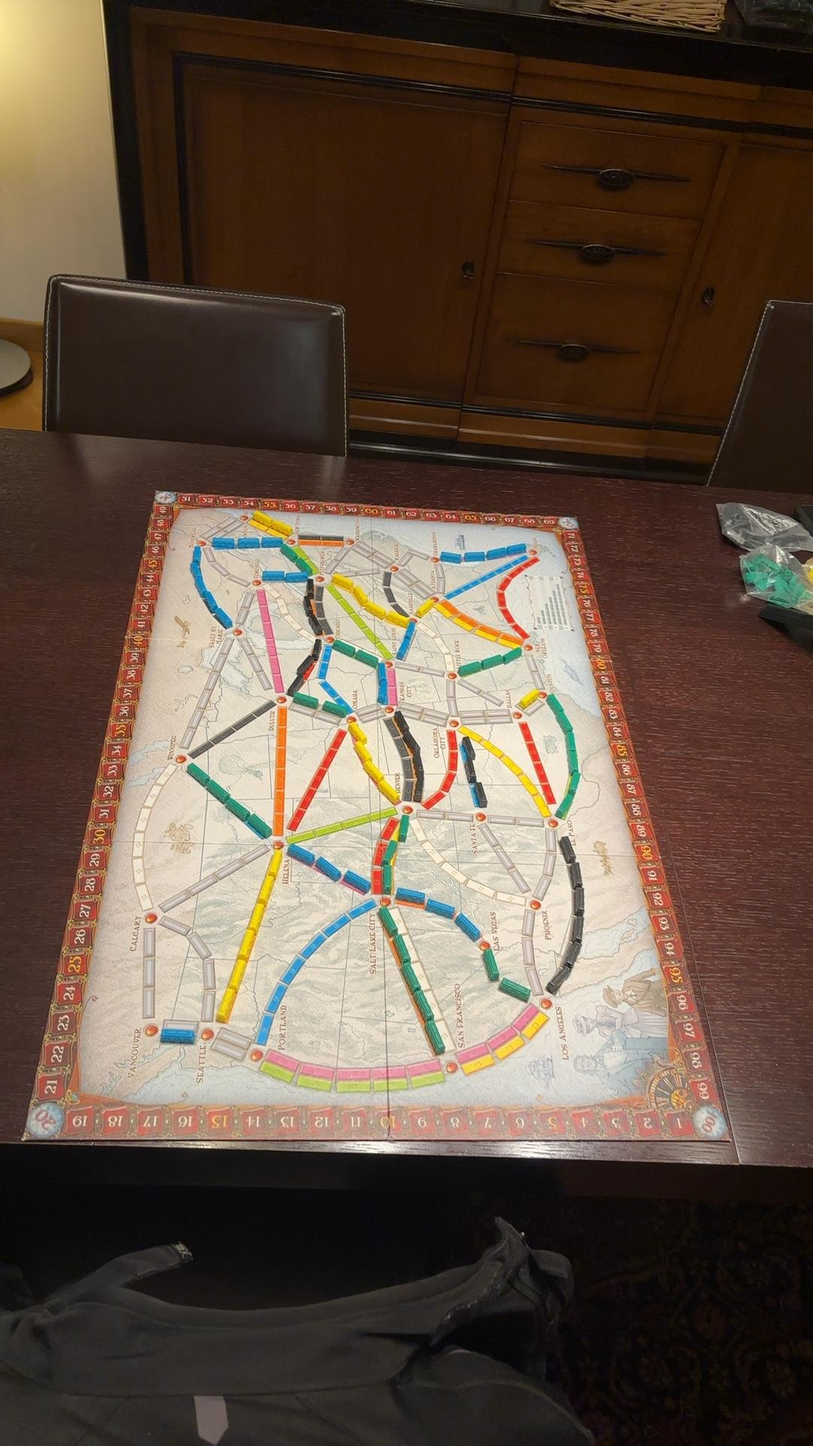black_train: (548, 965, 571, 993), (564, 941, 580, 968), (559, 835, 574, 863), (471, 781, 487, 807), (393, 710, 409, 731), (571, 917, 583, 942), (405, 733, 419, 754), (569, 862, 580, 886), (574, 885, 583, 914), (464, 737, 473, 761), (414, 780, 424, 801), (414, 754, 423, 774)
blue_train: (454, 911, 480, 941), (315, 857, 341, 880), (343, 871, 370, 892), (289, 844, 315, 865), (161, 1029, 195, 1045), (395, 887, 425, 905), (427, 898, 455, 917), (262, 570, 287, 581), (239, 535, 260, 548), (212, 538, 236, 549), (440, 552, 461, 563), (286, 571, 306, 582), (262, 537, 282, 548), (464, 552, 486, 561)
green_train: (334, 638, 376, 667), (499, 978, 530, 1002), (427, 1020, 445, 1052), (247, 813, 270, 837), (226, 796, 248, 821), (483, 947, 499, 981), (379, 906, 397, 936), (415, 990, 433, 1019), (403, 963, 420, 992), (394, 933, 410, 962), (293, 692, 318, 709), (321, 702, 349, 717), (354, 648, 376, 667), (499, 645, 522, 662), (380, 863, 393, 892), (398, 813, 409, 841), (383, 841, 397, 863)
yellow_train: (416, 597, 437, 618), (519, 690, 540, 709), (348, 721, 365, 743)
